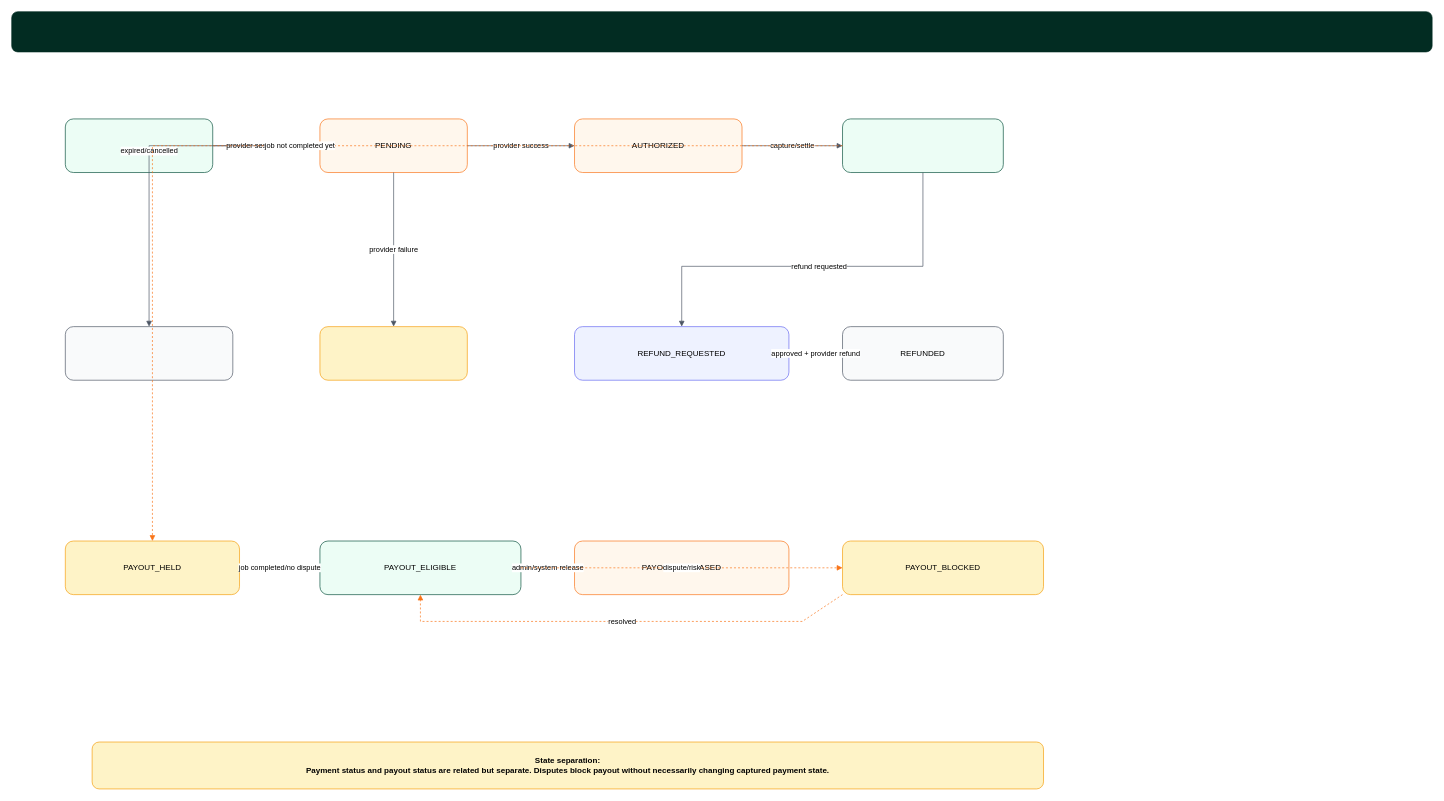
Image size: 1444x801. Some labels were removed from this diagram. Here are the shapes that lost their labels. From the top down, the centre of each, then its label:
At point 721,31: "Viaverse Payment / Wallet — State Diagram".
At point 139,145: "CREATED".
At point 922,145: "CAPTURED".
At point 149,353: "CANCELLED".
At point 393,353: "FAILED".
